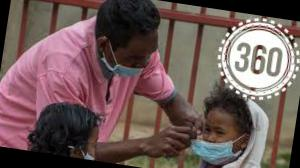mask_weared_incorrect: (122, 41, 156, 83), (200, 119, 235, 159), (86, 130, 101, 159)
